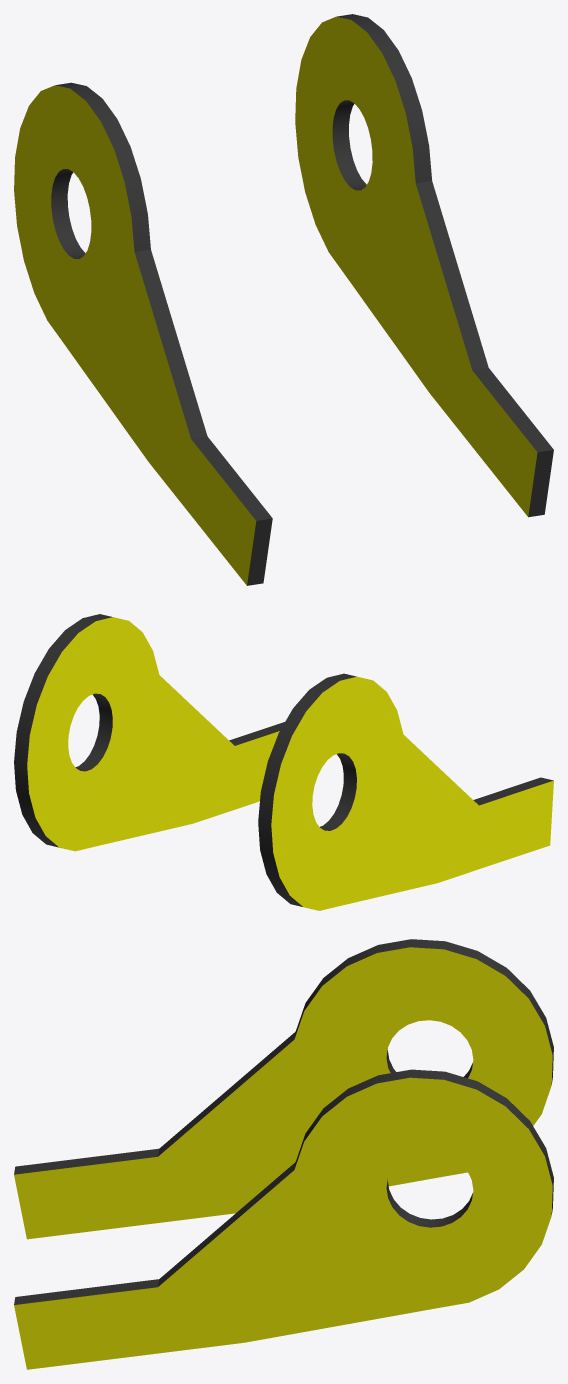
Rendered from JntArm1.dae.
The picture shows the model from 3 angles, top to bottom: view 1: azimuth 30°, elevation 25°; view 2: azimuth 150°, elevation 25°; view 3: azimuth 270°, elevation 25°; orthographic projection. The views are drawn at different scales.
Visible parts, largest first — view 1: group_0 (×6); view 2: group_0 (×6); view 3: group_0 (×5).
Part boxes in pixels (left/top/right/bottom): group_0 (×6): left=14, top=14, right=553, bottom=585; group_0 (×6): left=14, top=614, right=553, bottom=910; group_0 (×5): left=14, top=939, right=553, bottom=1369.
Size of the model in its own units: 0.5716 by 0.8199 by 0.5224.
